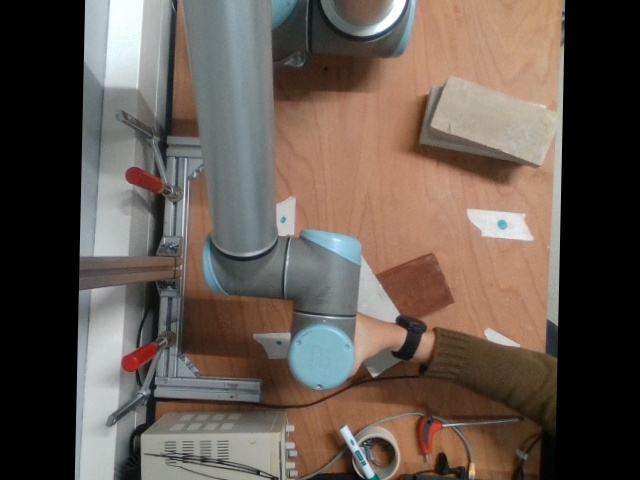brick: (433, 78, 558, 163)
